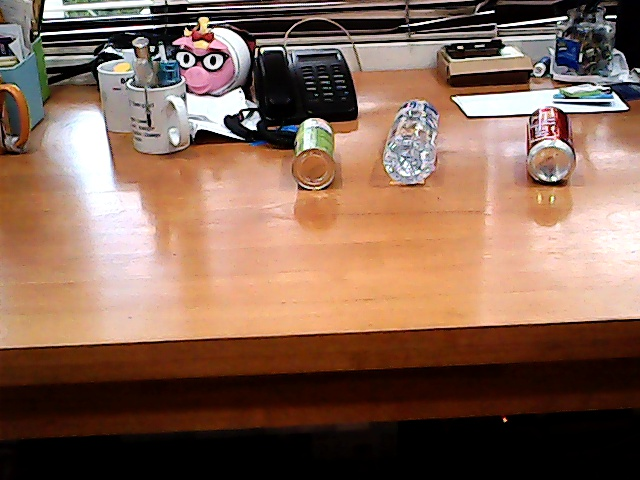Cola: (502, 93, 588, 193)
Pine Juice: (273, 109, 349, 205)
Summit Water: (371, 85, 459, 209)
